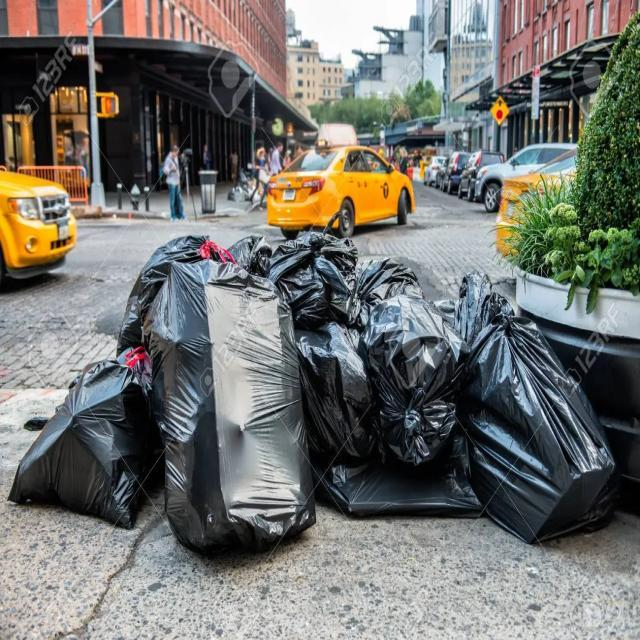garbage: (8, 223, 620, 559)
